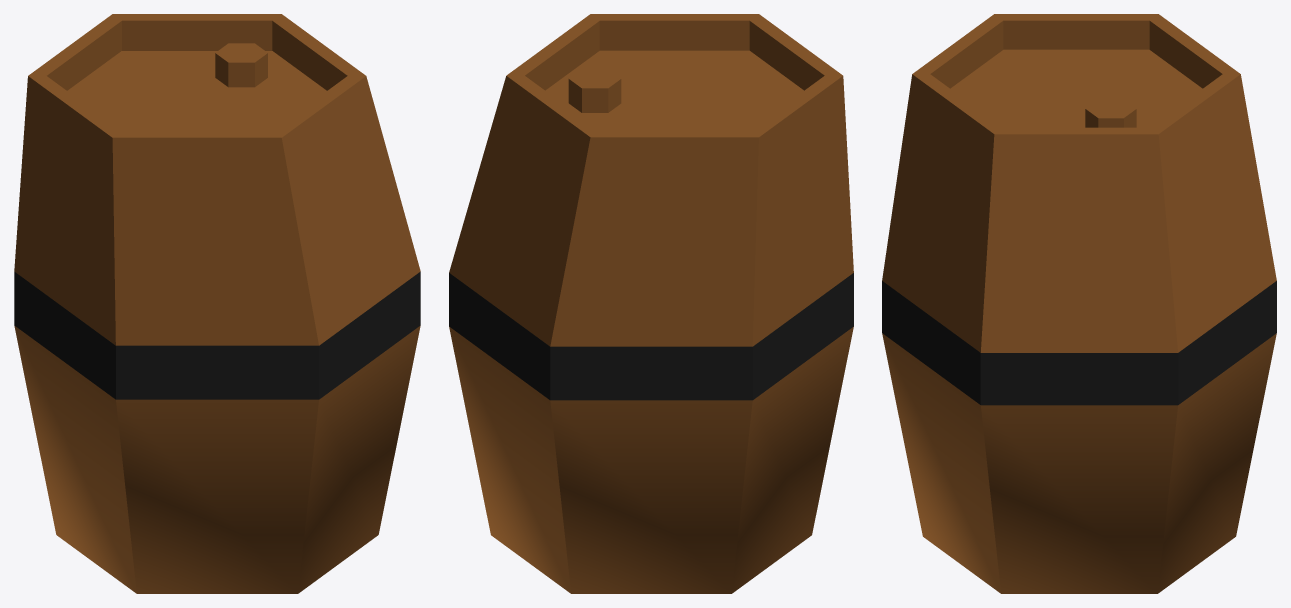
File: bochka.obj
3 views of the same model, side by side, from view 1: azimuth 30°, elevation 25°; view 2: azimuth 150°, elevation 25°; view 3: azimuth 270°, elevation 25° (orthographic). The views are drawn at different scales.
Visible parts, largest first — view 1: Circle, Circle.001; view 2: Circle, Circle.001; view 3: Circle, Circle.001.
Boxes of the visible parts, x1=… form: Circle: x1=14, y1=14, x2=420, y2=593; Circle.001: x1=215, y1=43, x2=267, y2=87; Circle: x1=449, y1=14, x2=853, y2=593; Circle.001: x1=568, y1=69, x2=621, y2=112; Circle: x1=882, y1=14, x2=1276, y2=593; Circle.001: x1=1085, y1=99, x2=1136, y2=127.
Size of the model in its own units: 2.13 by 3.1 by 2.46.
